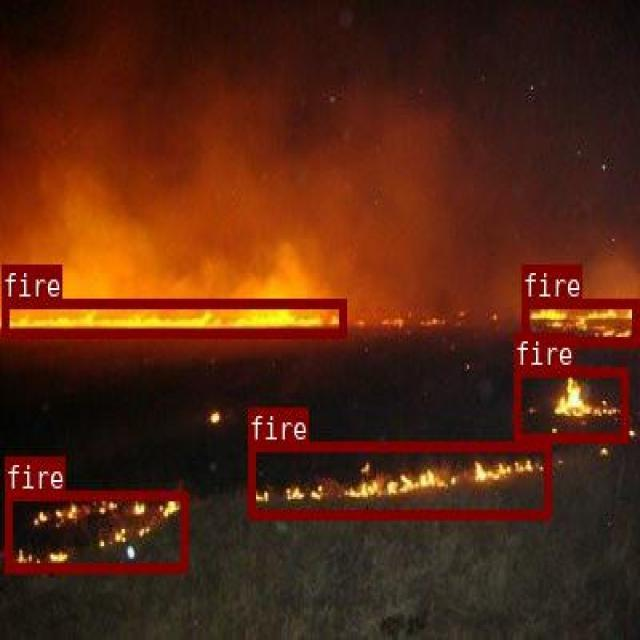fire: (247, 441, 550, 516), (4, 491, 187, 571), (0, 299, 346, 336), (512, 366, 627, 440), (521, 298, 637, 343)
